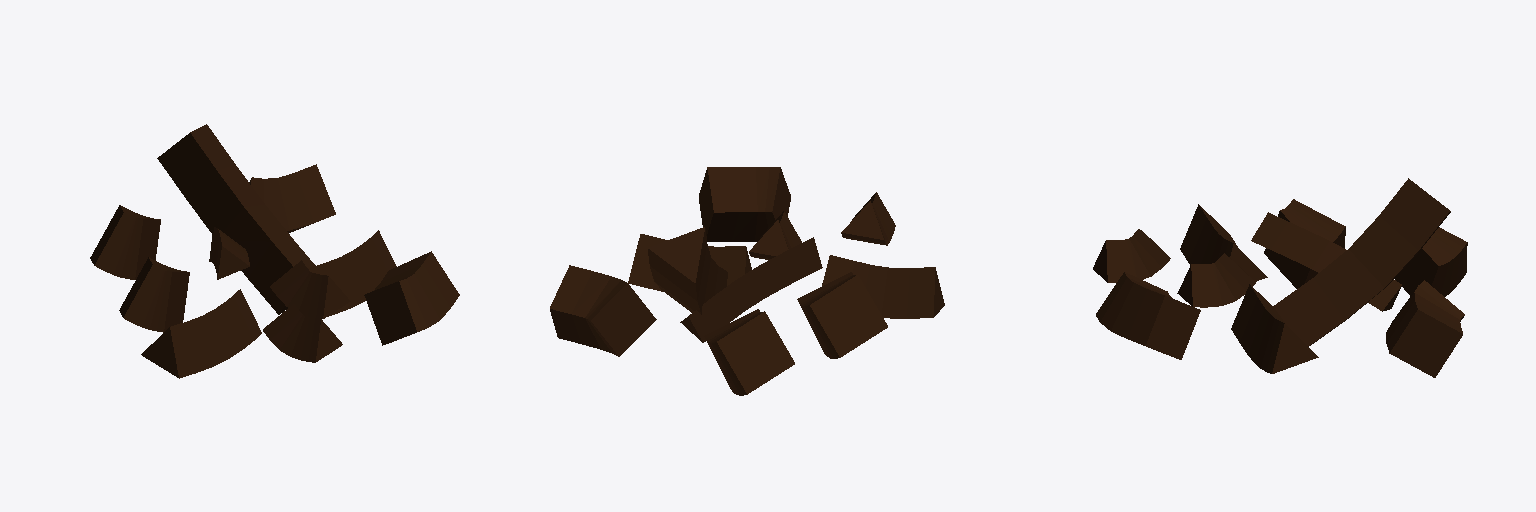
Rendered from bonfire4.obj.
3 renders of one model, left to right at view 1: azimuth 30°, elevation 25°; view 2: azimuth 150°, elevation 25°; view 3: azimuth 270°, elevation 25°, orthographic.
Visible parts, largest first — view 1: Wick4, Wick2, Wick6, Wick3, Wick6_1, Wick3_1, Wick2_1, Wick1_1, Wick1, Wick5; view 2: Wick6_1, Wick6, Wick3, Wick3_1, Wick5, Wick2, Wick4, Wick2_1, Wick1_1, Wick1; view 3: Wick4, Wick6, Wick6_1, Wick2_1, Wick5, Wick3_1, Wick1, Wick1_1, Wick2, Wick3.
Part boxes in pixels (bbox=[...]): Wick4: bbox=[157, 124, 315, 314]; Wick2: bbox=[141, 289, 261, 378]; Wick6: bbox=[364, 251, 459, 345]; Wick3: bbox=[119, 257, 189, 332]; Wick6_1: bbox=[249, 164, 335, 232]; Wick3_1: bbox=[90, 205, 160, 279]; Wick2_1: bbox=[308, 230, 396, 316]; Wick1_1: bbox=[263, 304, 342, 362]; Wick1: bbox=[270, 260, 350, 318]; Wick5: bbox=[209, 227, 249, 279]; Wick6_1: bbox=[550, 265, 656, 356]; Wick6: bbox=[699, 167, 790, 241]; Wick3: bbox=[797, 272, 887, 358]; Wick3_1: bbox=[704, 309, 794, 395]; Wick5: bbox=[680, 237, 822, 342]; Wick2: bbox=[822, 255, 944, 318]; Wick4: bbox=[648, 227, 727, 314]; Wick2_1: bbox=[628, 234, 751, 291]; Wick1_1: bbox=[841, 192, 895, 245]; Wick1: bbox=[749, 211, 801, 259]; Wick4: bbox=[1273, 178, 1450, 346]; Wick6: bbox=[1096, 272, 1200, 359]; Wick6_1: bbox=[1386, 280, 1464, 377]; Wick2_1: bbox=[1231, 284, 1318, 373]; Wick5: bbox=[1251, 212, 1401, 311]; Wick3_1: bbox=[1395, 227, 1467, 296]; Wick1: bbox=[1177, 253, 1255, 307]; Wick1_1: bbox=[1093, 229, 1170, 282]; Wick2: bbox=[1180, 204, 1267, 281]; Wick3: bbox=[1264, 199, 1345, 288].
Bounding box in the file's own units: 0.6354 × 0.3322 × 0.735.